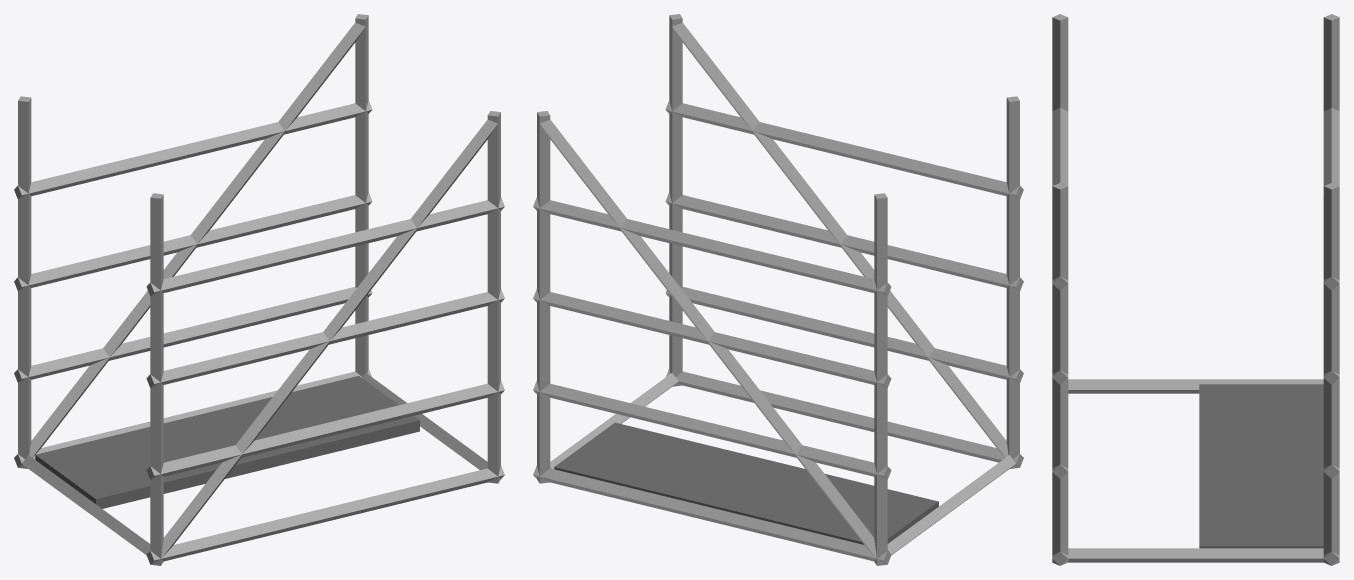
File: ScaffOlding_2.fbx
3 views of the same model, side by side, from view 1: azimuth 30°, elevation 25°; view 2: azimuth 150°, elevation 25°; view 3: azimuth 270°, elevation 25° (orthographic). The views are drawn at different scales.
Parts seen in each view (by area): view 1: Cylinder.001; view 2: Cylinder.001; view 3: Cylinder.001.
Boxes of the visible parts, x1,y1,x2,y2 form: Cylinder.001: [14, 14, 504, 565]; Cylinder.001: [533, 14, 1023, 565]; Cylinder.001: [1052, 14, 1339, 565].
Size of the model in its own units: 325 by 325 by 225.
